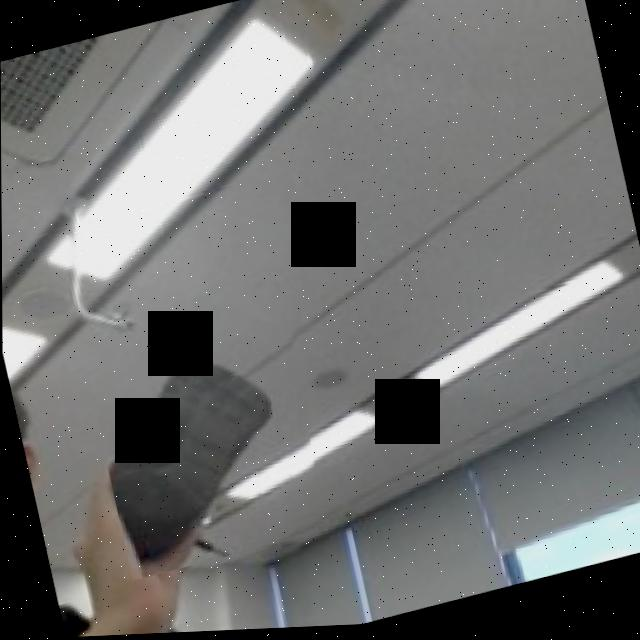shoe: (78, 288, 337, 583)
